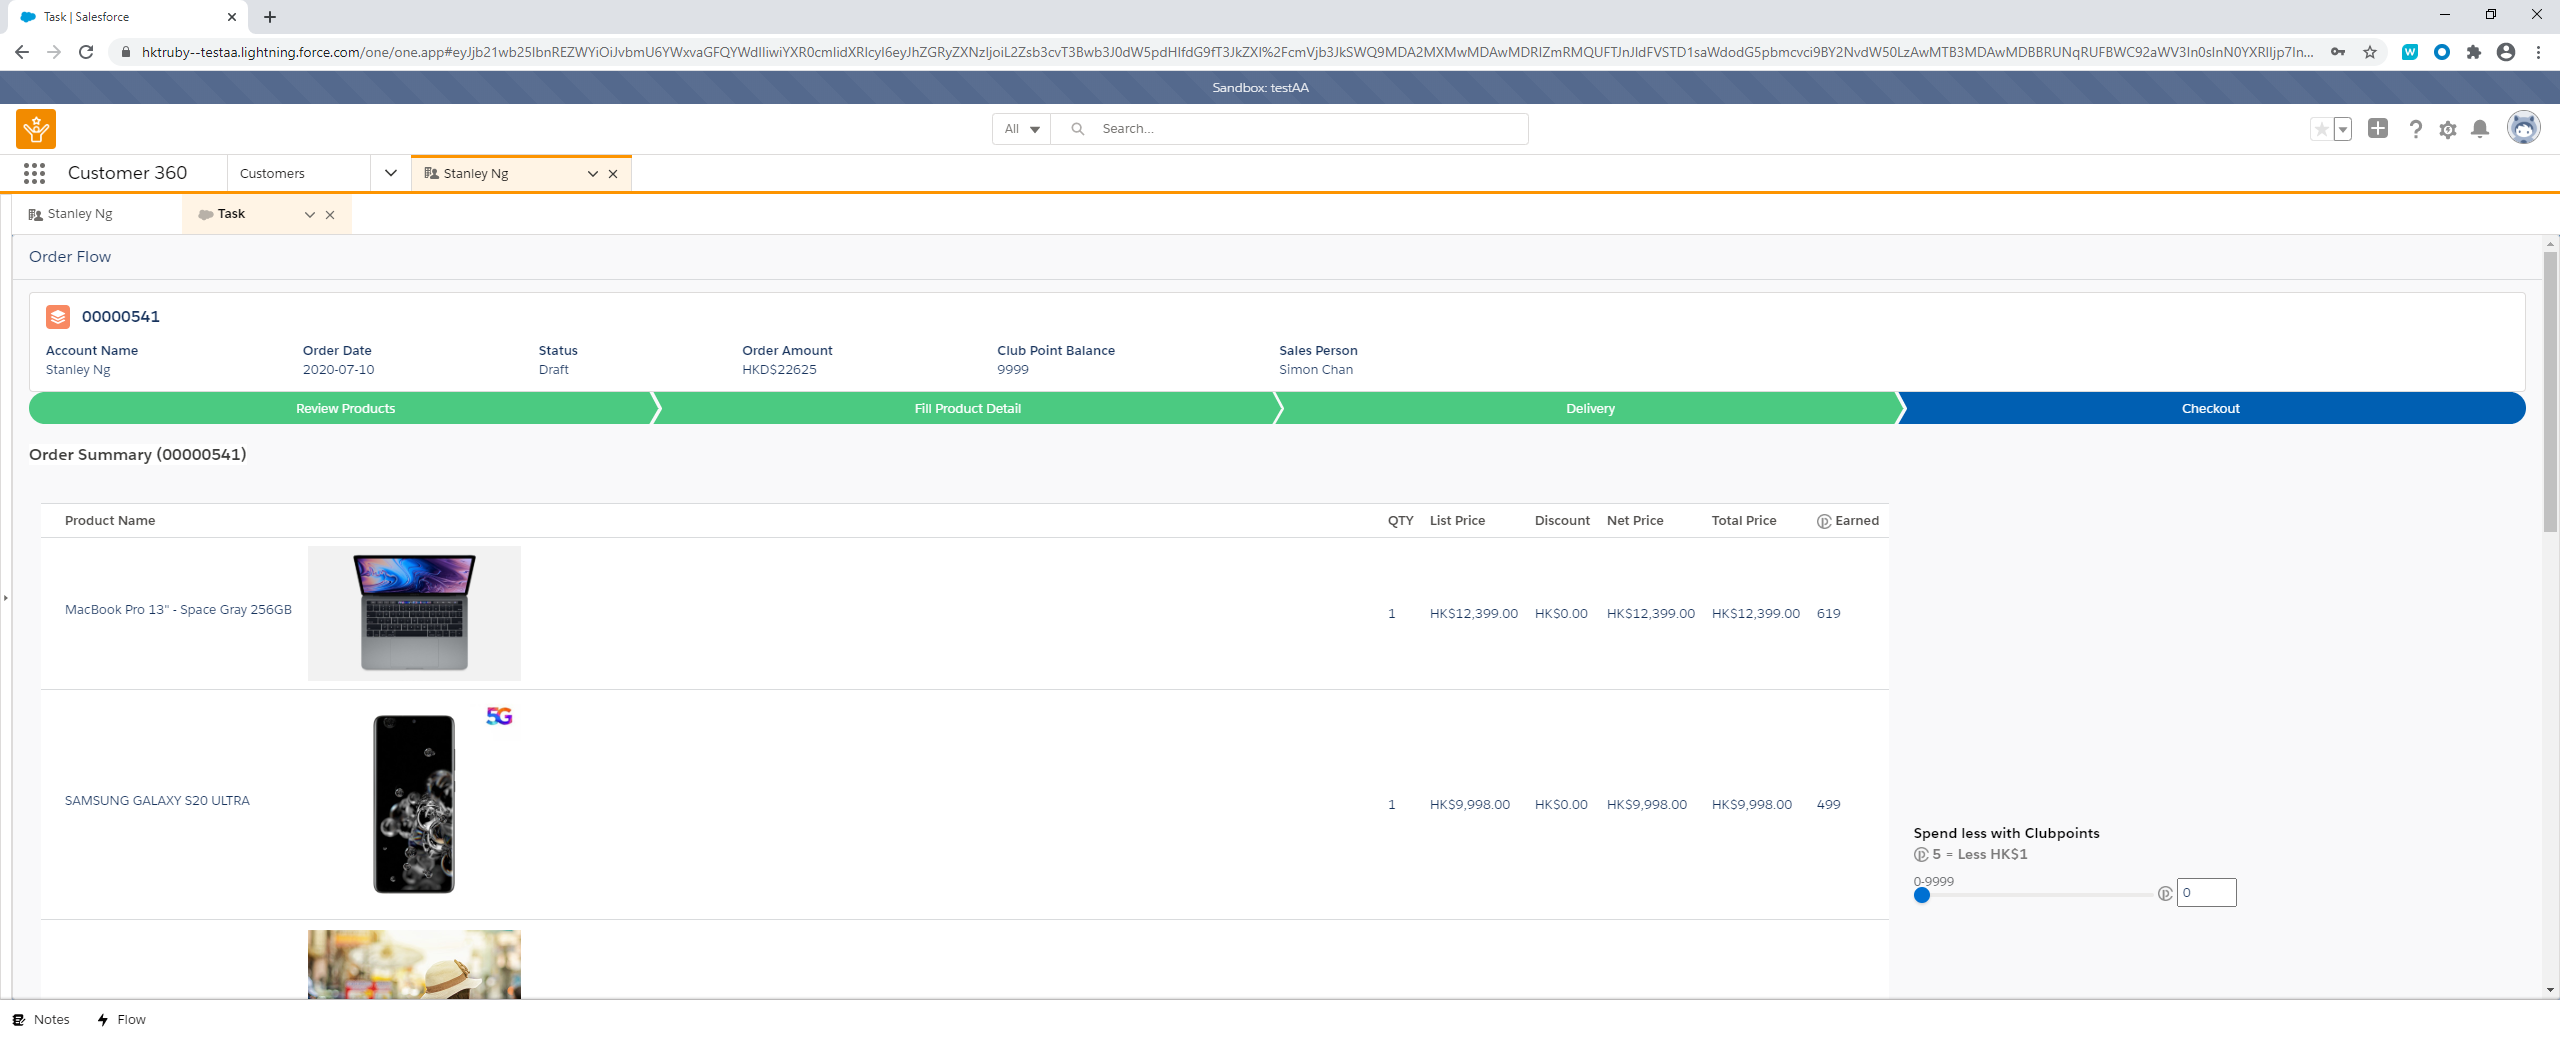COLUMN: (42, 501, 1371, 918), (1598, 501, 1708, 921), (1419, 500, 1522, 922), (1708, 501, 1806, 921), (1806, 501, 1892, 921), (1520, 496, 1600, 922), (1375, 501, 1422, 922)
COMBOBOX: (993, 113, 1050, 147)
DROPDOWN_HANDLE: (570, 155, 606, 189), (374, 153, 408, 188), (1019, 113, 1051, 149)
HEADER_ROW: (39, 506, 1886, 537)
IMAGEBUTTON: (2508, 108, 2549, 147), (2309, 113, 2356, 144), (2462, 109, 2496, 145), (2361, 113, 2390, 142), (2400, 114, 2429, 144), (2433, 113, 2462, 142), (2491, 38, 2518, 64), (2470, 38, 2496, 64), (5, 34, 29, 62), (72, 38, 96, 64), (38, 38, 62, 62), (2398, 39, 2421, 64), (2460, 39, 2483, 64), (2429, 38, 2452, 60), (2361, 41, 2384, 64), (2529, 39, 2552, 62), (109, 39, 132, 60), (2482, 2, 2501, 16)
ROW: (39, 687, 1887, 921), (42, 539, 1887, 689)
SCROLLBAR_VERTICAL: (2545, 240, 2557, 998)
SCROLLBAR_VERTICAL_BAR: (2545, 286, 2558, 527)
SCROLLBAR_VERTICAL_HANDLE: (2544, 975, 2557, 998), (2545, 240, 2557, 261)
SEARCHBOX: (1050, 113, 1530, 149)
SEARCH_ICON_LEFT: (1050, 109, 1096, 149)
TABLE: (41, 506, 1887, 918)
